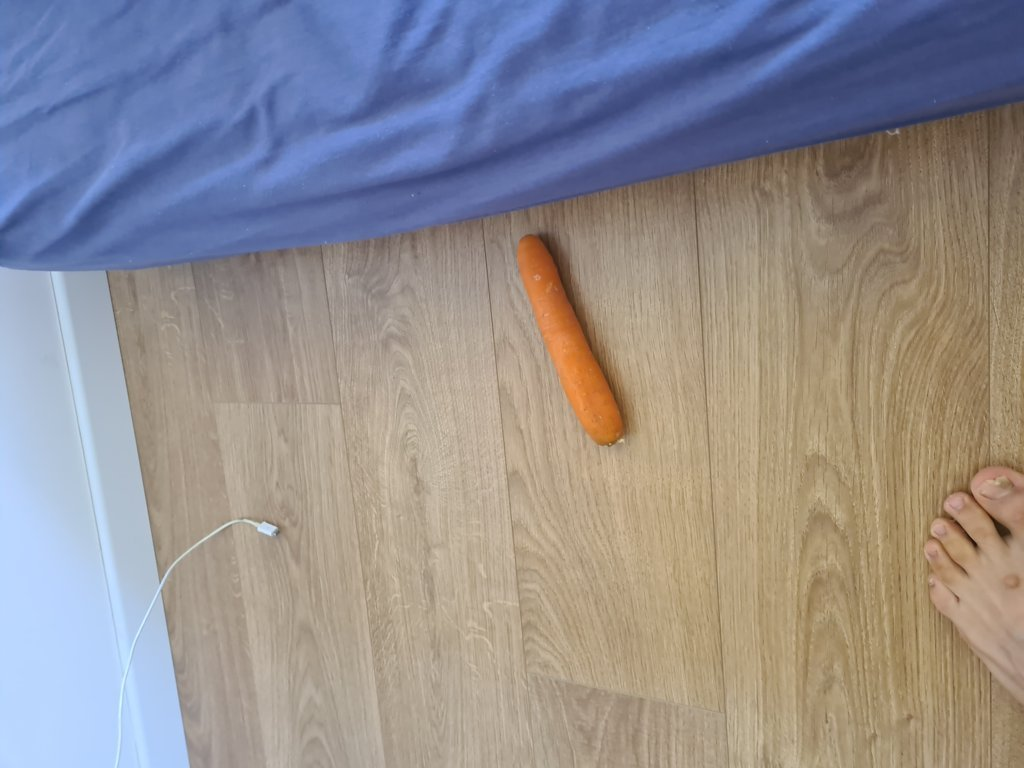carrot: (516, 230, 625, 442)
